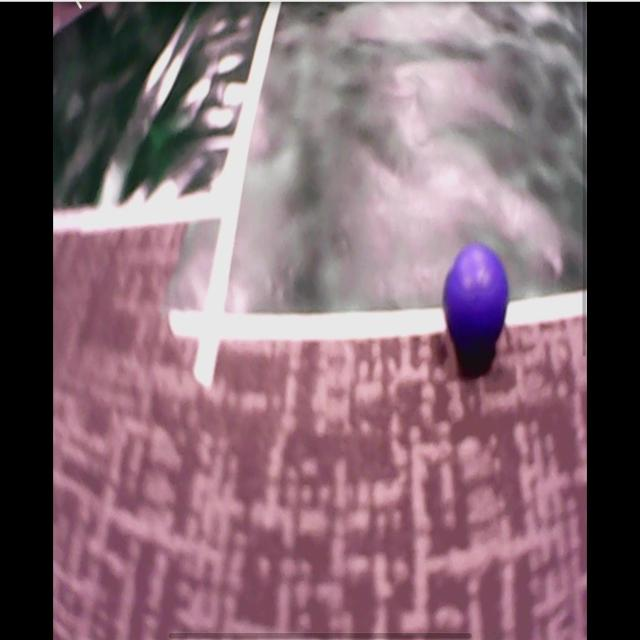ball: (446, 244, 511, 346)
